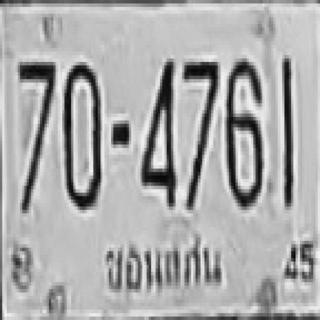N00: (62, 62, 100, 206)
N01: (280, 57, 293, 208)
N04: (140, 55, 176, 203)
N06: (224, 55, 262, 206)
N07: (16, 59, 53, 210), (182, 58, 218, 206), (182, 59, 218, 172)
P18: (96, 236, 230, 299)
